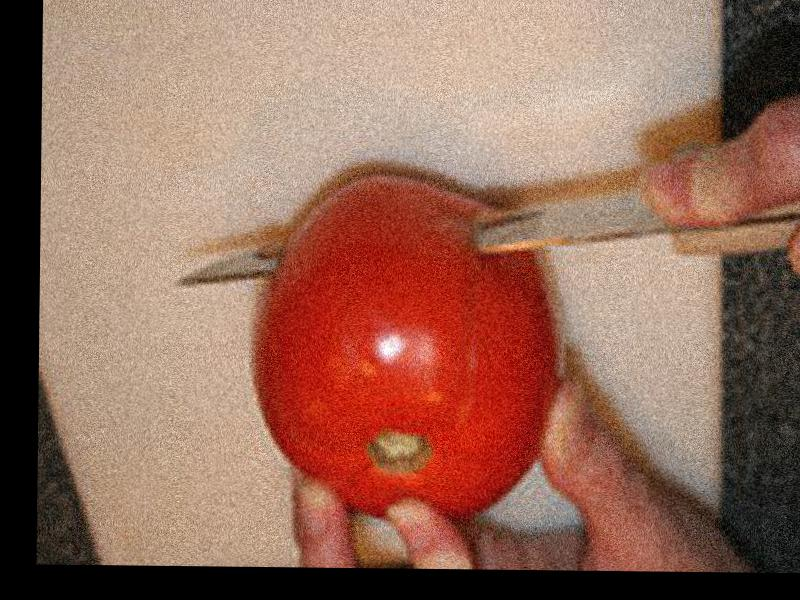Tomato: (247, 174, 559, 524)
